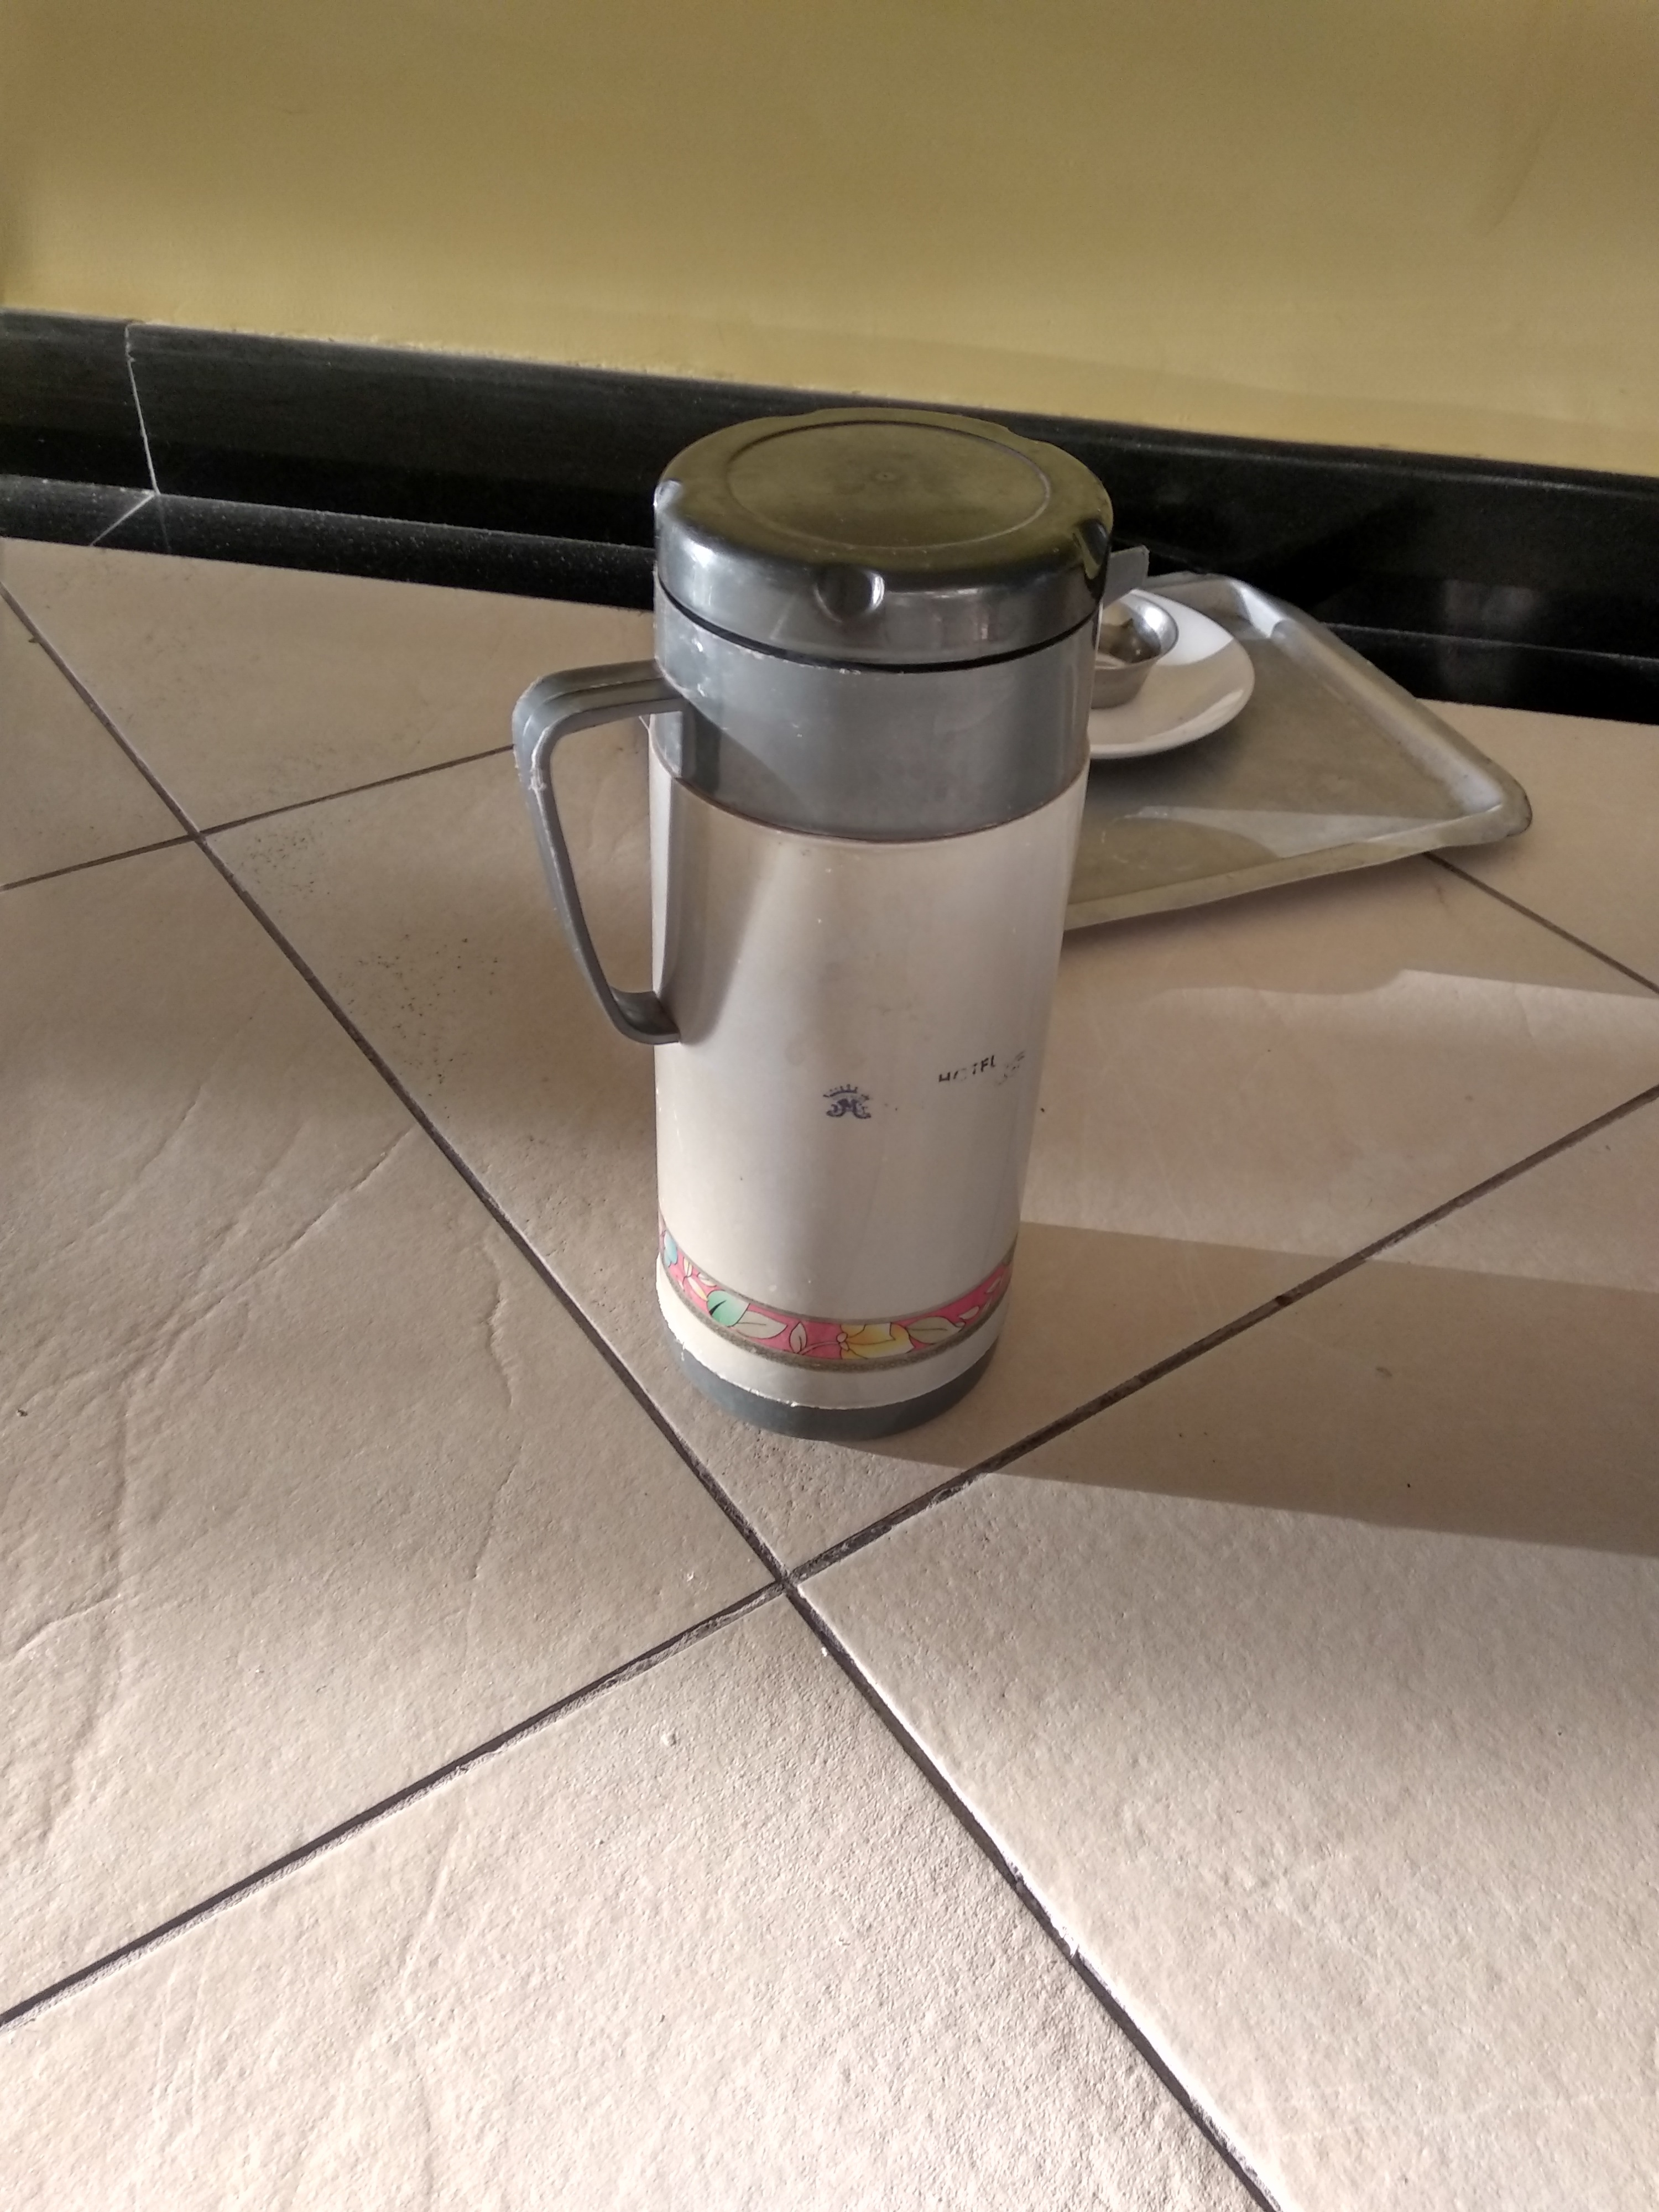JUG: (533, 441, 1126, 1468)
